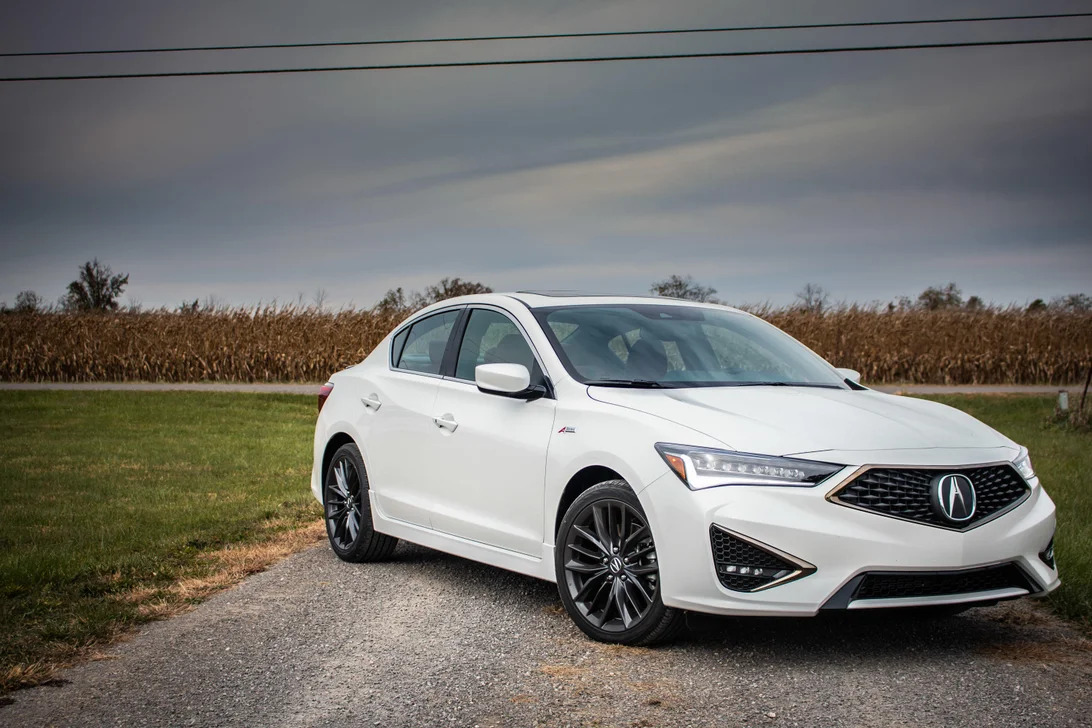Fog Lamp & Scope: (714, 531, 802, 590)
Front: (585, 392, 1060, 612)
Front Bumper: (661, 529, 1062, 603)
Grill: (845, 470, 1023, 515)
Headlight: (662, 450, 823, 489)
